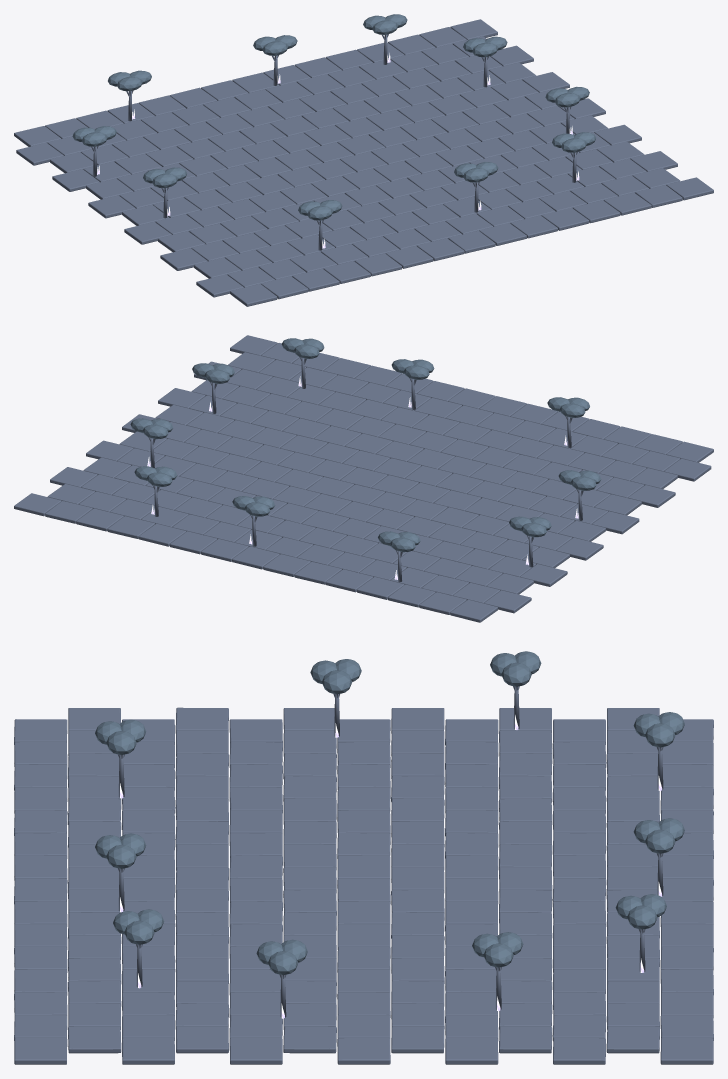
The model's file is moonrest_forest_hunt.glb.
3 views of the same model, one above another, from view 1: azimuth 30°, elevation 25°; view 2: azimuth 150°, elevation 25°; view 3: azimuth 270°, elevation 25° (orthographic). The views are drawn at different scales.
Parts seen in each view (by area): view 1: moonrest_forest_hunt Geometry; view 2: moonrest_forest_hunt Geometry; view 3: moonrest_forest_hunt Geometry.
Part boxes in pixels (x1=…): moonrest_forest_hunt Geometry: x1=14, y1=14, x2=713, y2=306; moonrest_forest_hunt Geometry: x1=14, y1=335, x2=713, y2=622; moonrest_forest_hunt Geometry: x1=14, y1=651, x2=713, y2=1064.
Bounding box in the file's own units: 46.47 × 4.69 × 38.98.
